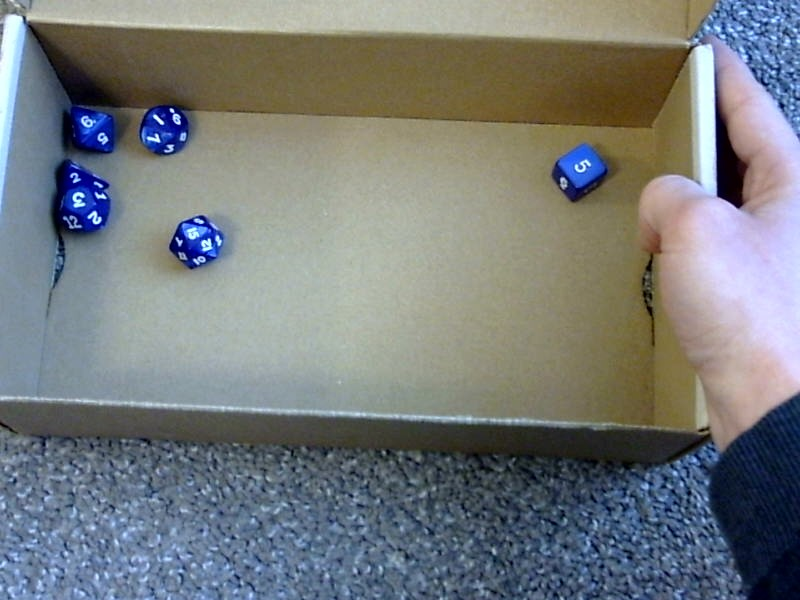d10 1: (132, 98, 192, 159)
d12 3: (52, 185, 113, 234)
d20 15: (165, 210, 226, 273)
d4 2: (52, 154, 112, 194)
d6 5: (542, 137, 610, 204)
d8 6: (65, 100, 119, 156)
